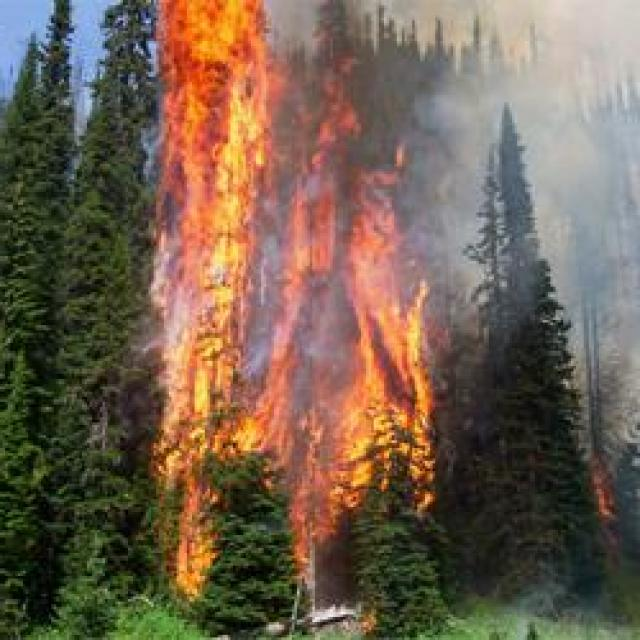fire: (154, 0, 270, 370), (344, 329, 430, 477), (157, 427, 240, 539)
smoke: (386, 78, 600, 256), (570, 352, 626, 428)
